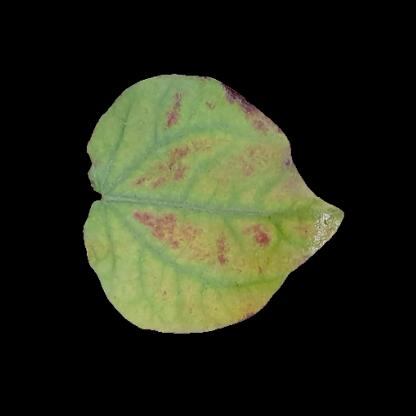curl_stage1: (103, 131, 257, 291), (143, 287, 248, 329), (266, 182, 296, 274)
